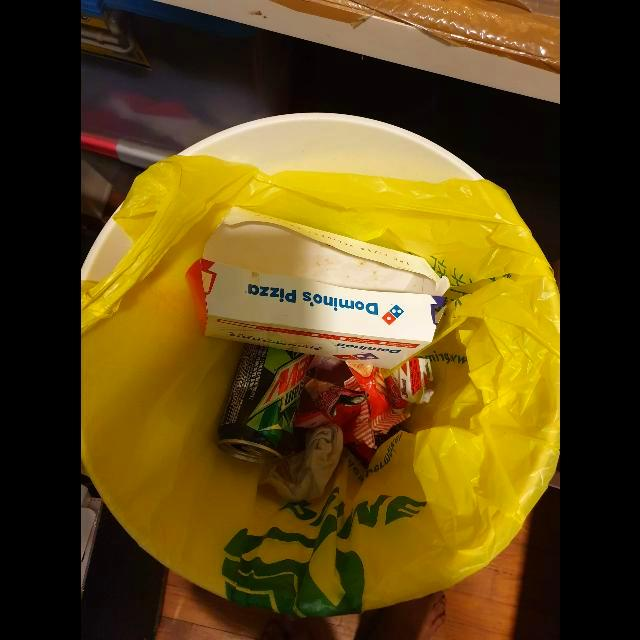aluminum: (216, 344, 308, 464)
cardboard: (195, 207, 450, 370)
food_wrapper: (384, 358, 435, 414), (304, 377, 369, 418)
paper: (257, 423, 343, 501)
